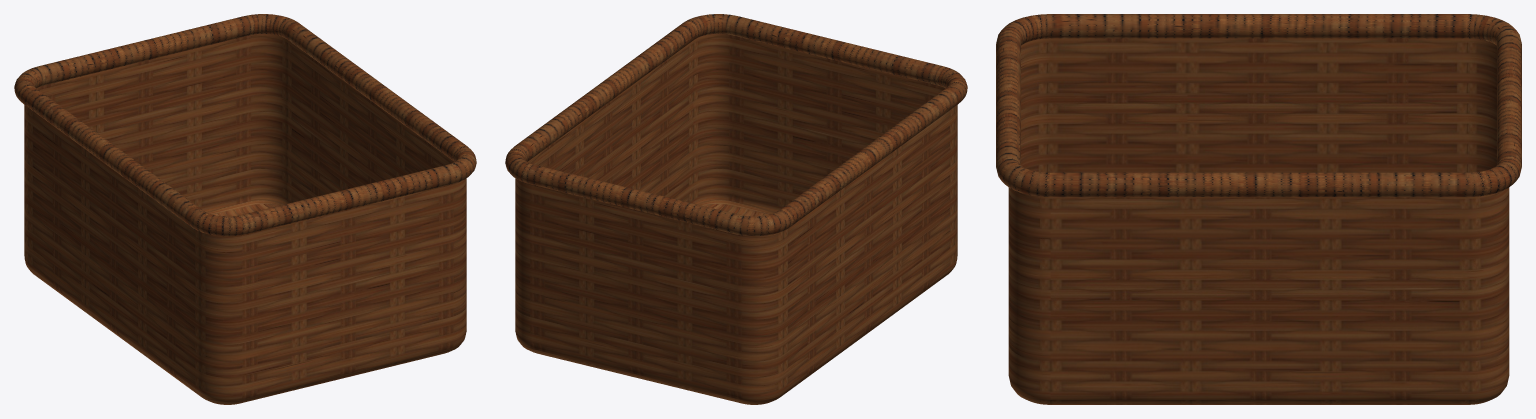
The model's file is basket.fbx.
3 views of the same model, side by side, from view 1: azimuth 30°, elevation 25°; view 2: azimuth 150°, elevation 25°; view 3: azimuth 270°, elevation 25° (orthographic). The views are drawn at different scales.
Parts seen in each view (by area): view 1: Cube.005, Cube.001; view 2: Cube.005, Cube.001; view 3: Cube.005, Cube.001.
Boxes of the visible parts, <box> form: Cube.005: <box>24,33,466,404</box>; Cube.001: <box>14,14,476,236</box>; Cube.005: <box>515,33,957,404</box>; Cube.001: <box>505,14,967,236</box>; Cube.005: <box>1008,38,1509,404</box>; Cube.001: <box>996,14,1521,197</box>.
Bounding box in the file's own units: 19.2 × 12.58 × 25.2.
